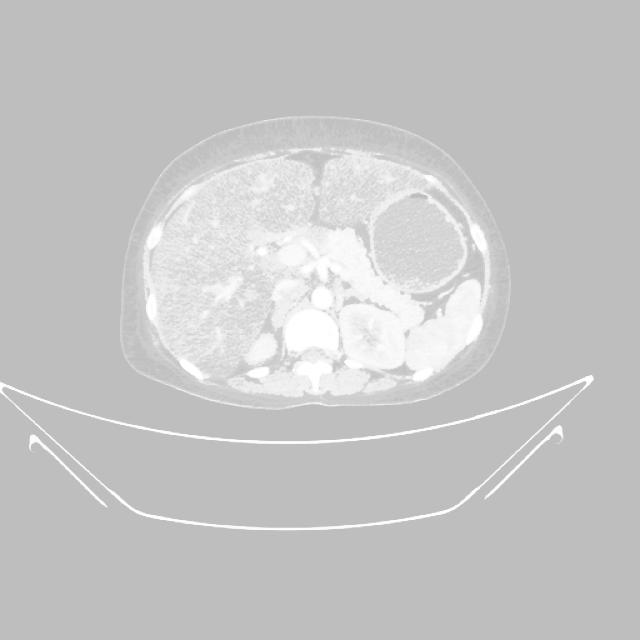NORMAL: (104, 125, 514, 393)
